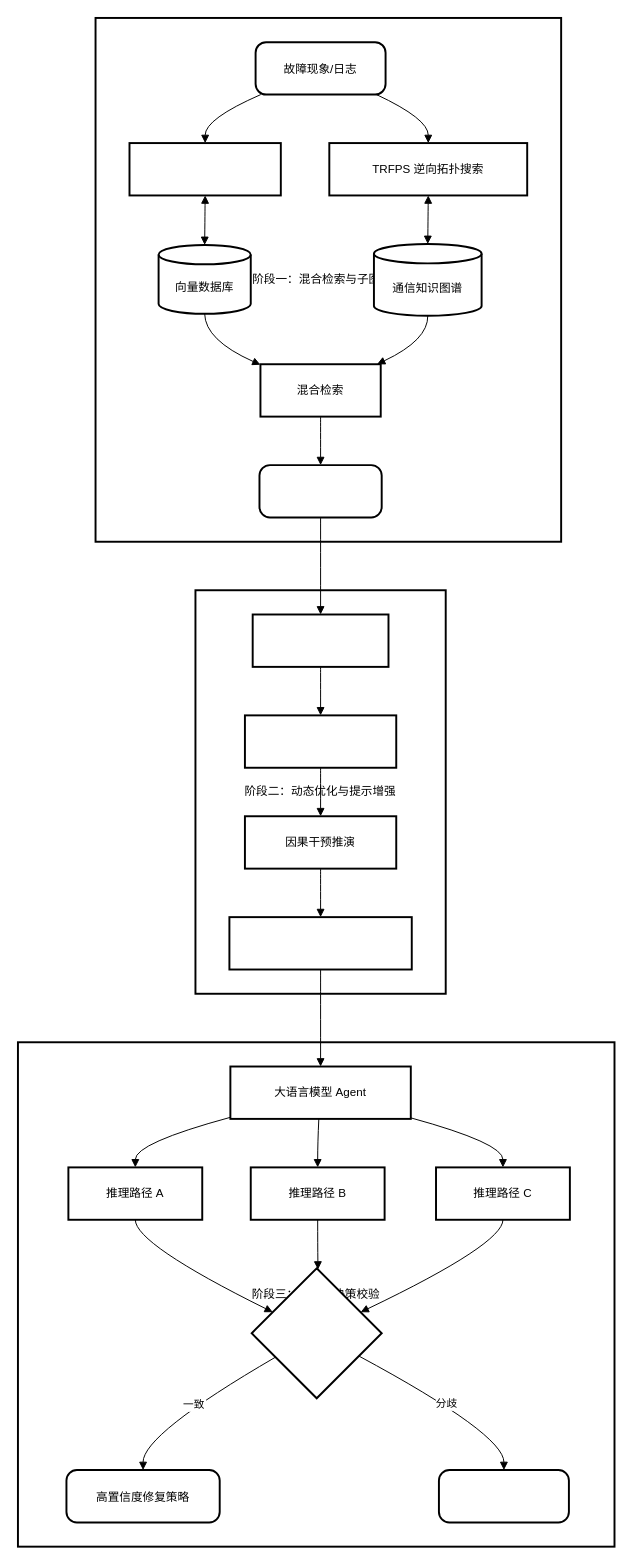
This 631x1564 diagram has some shape labels left out. Here are the shapes that lost their labels. From the top down, the centre of each, then its label:
At pixel 204 169: "语义向量编码".
At pixel 320 491: "原始候选子图".
At pixel 320 640: "动态图剪枝".
At pixel 320 741: "对比子图构建".
At pixel 320 943: "结构化提示词生成".
At pixel 316 1333: "自洽性校验".
At pixel 503 1496: "人工审核/回退".
